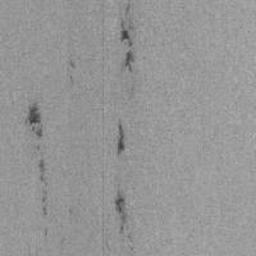Inclusion: (23, 100, 50, 219), (118, 1, 138, 74), (113, 187, 134, 237), (114, 116, 128, 157)
